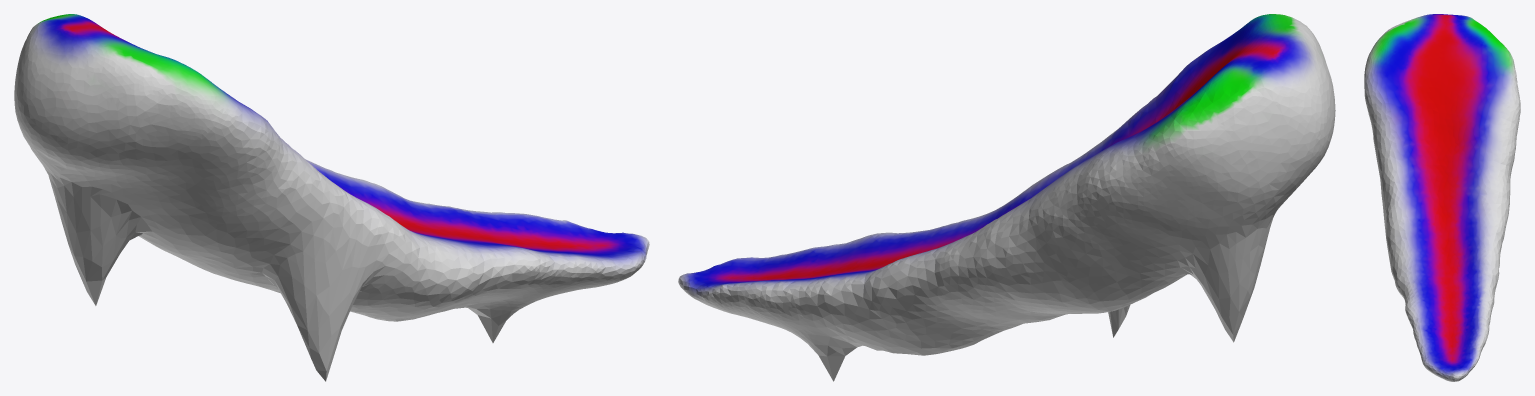
File: Floating Island DeclineLarge.fbx
The picture shows the model from 3 angles, left to right: view 1: azimuth 30°, elevation 25°; view 2: azimuth 150°, elevation 25°; view 3: azimuth 270°, elevation 25°; orthographic projection. The views are drawn at different scales.
Visible parts, largest first — view 1: Sphere; view 2: Sphere; view 3: Sphere.
Part boxes in pixels (x1=…): Sphere: x1=14, y1=14, x2=649, y2=381; Sphere: x1=678, y1=14, x2=1335, y2=381; Sphere: x1=1364, y1=14, x2=1520, y2=381.
Bounding box in the file's own units: 1200 × 775 × 458.
